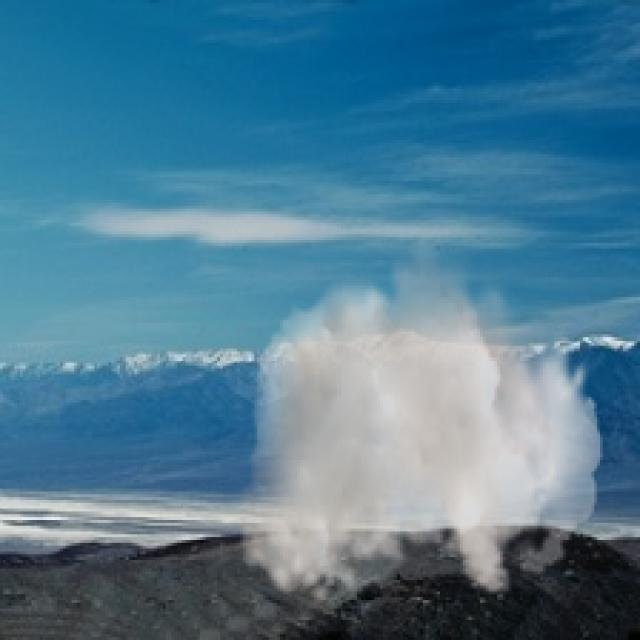smoke: (237, 231, 603, 606)
